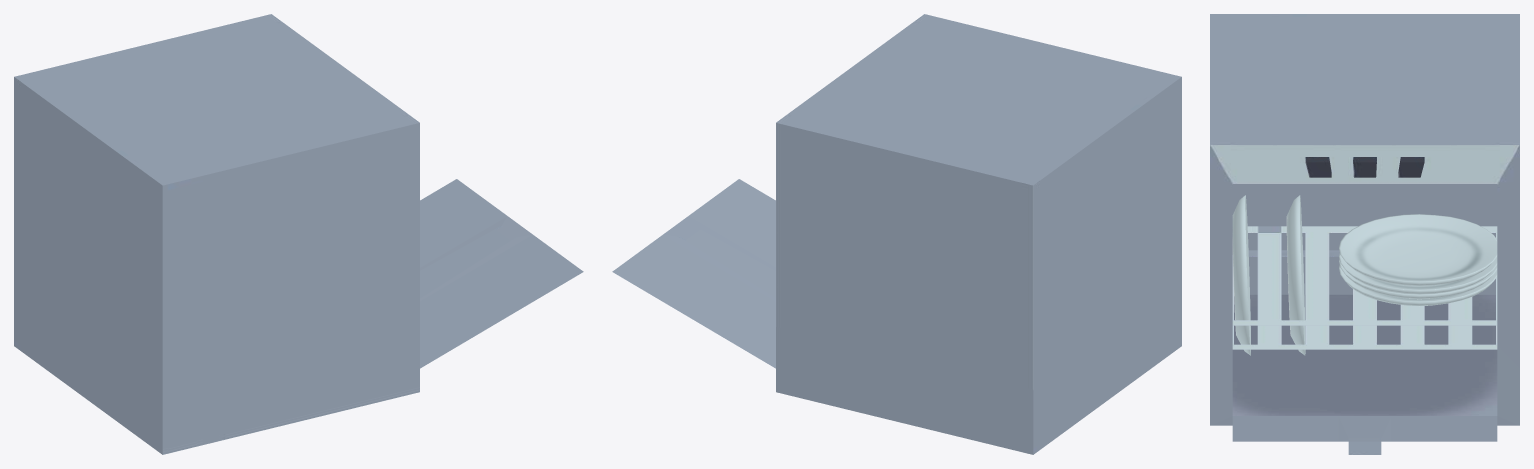
Rendered from LaveVaisselleOuvert.glb.
3 views of the same model, side by side, from view 1: azimuth 30°, elevation 25°; view 2: azimuth 150°, elevation 25°; view 3: azimuth 270°, elevation 25° (orthographic). The views are drawn at different scales.
Parts seen in each view (by area): view 1: Assiette; view 2: Assiette; view 3: Assiette.
Part boxes in pixels (left/top/right/bottom): Assiette: left=14, top=14, right=583, bottom=454; Assiette: left=612, top=14, right=1181, bottom=454; Assiette: left=1210, top=14, right=1519, bottom=454.
Size of the model in its own units: 4.05 by 2.41 by 2.41.
Materials: 2 (2 with a texture image).
